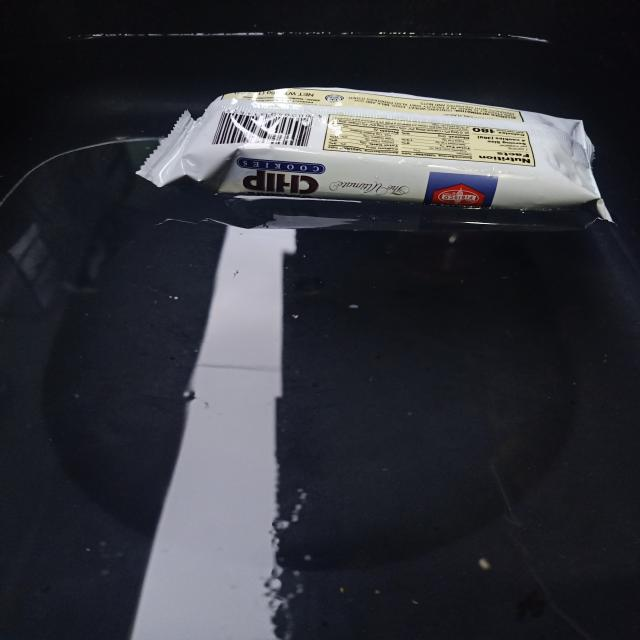Plastic Wrapper: (140, 88, 611, 220)
